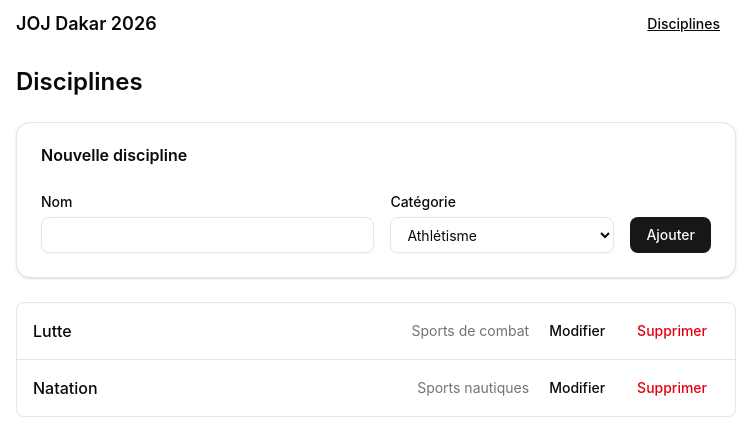
Scenario: DisciplinesPage › AS6: opens the detail page of a discipline from the list
Click the link "Lutte": (52, 331) [33,319,72,343]
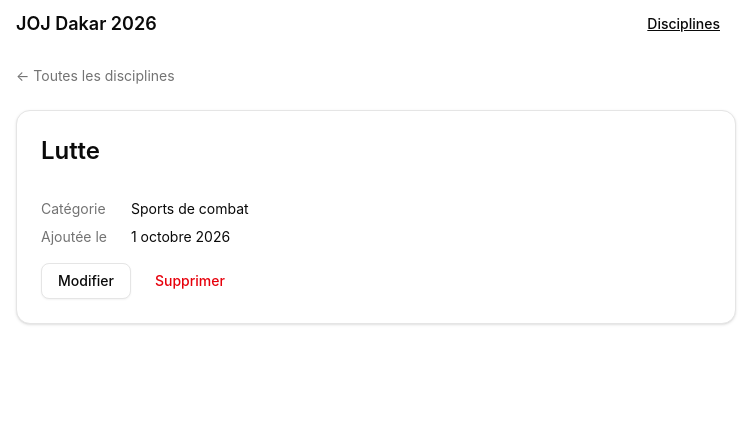
Expected: the heading "Lutte" is shown, [41,136,100,165]
